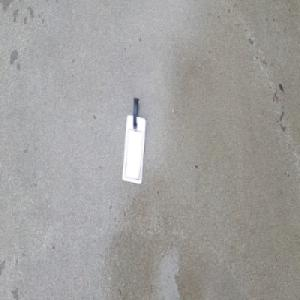LuggageTag: (121, 96, 146, 185)
